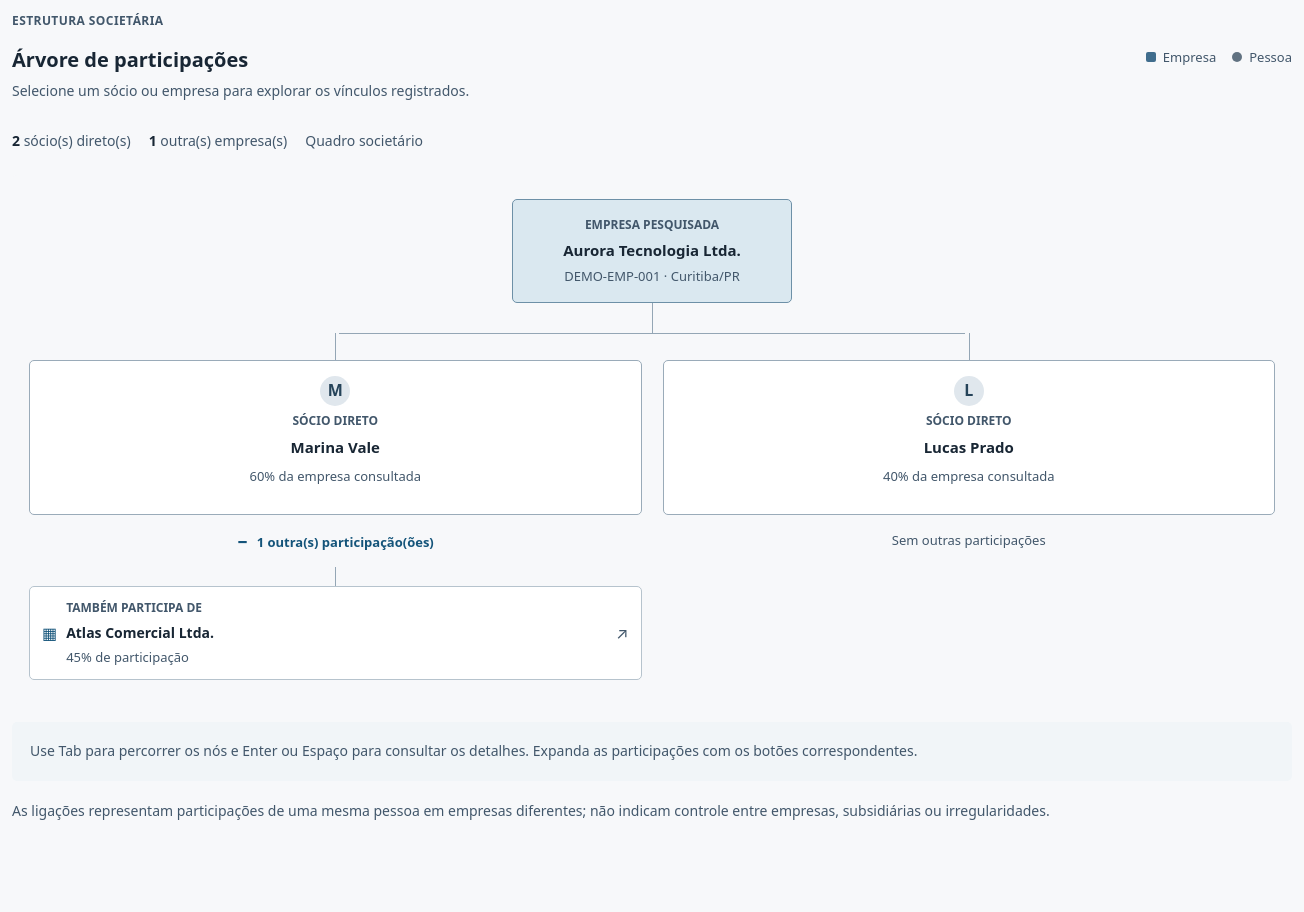
Test: árvore societária › permite expandir e recolher os vínculos
Click the button with class "tree-expand" at (335, 541), box 29,515 -> 642,567
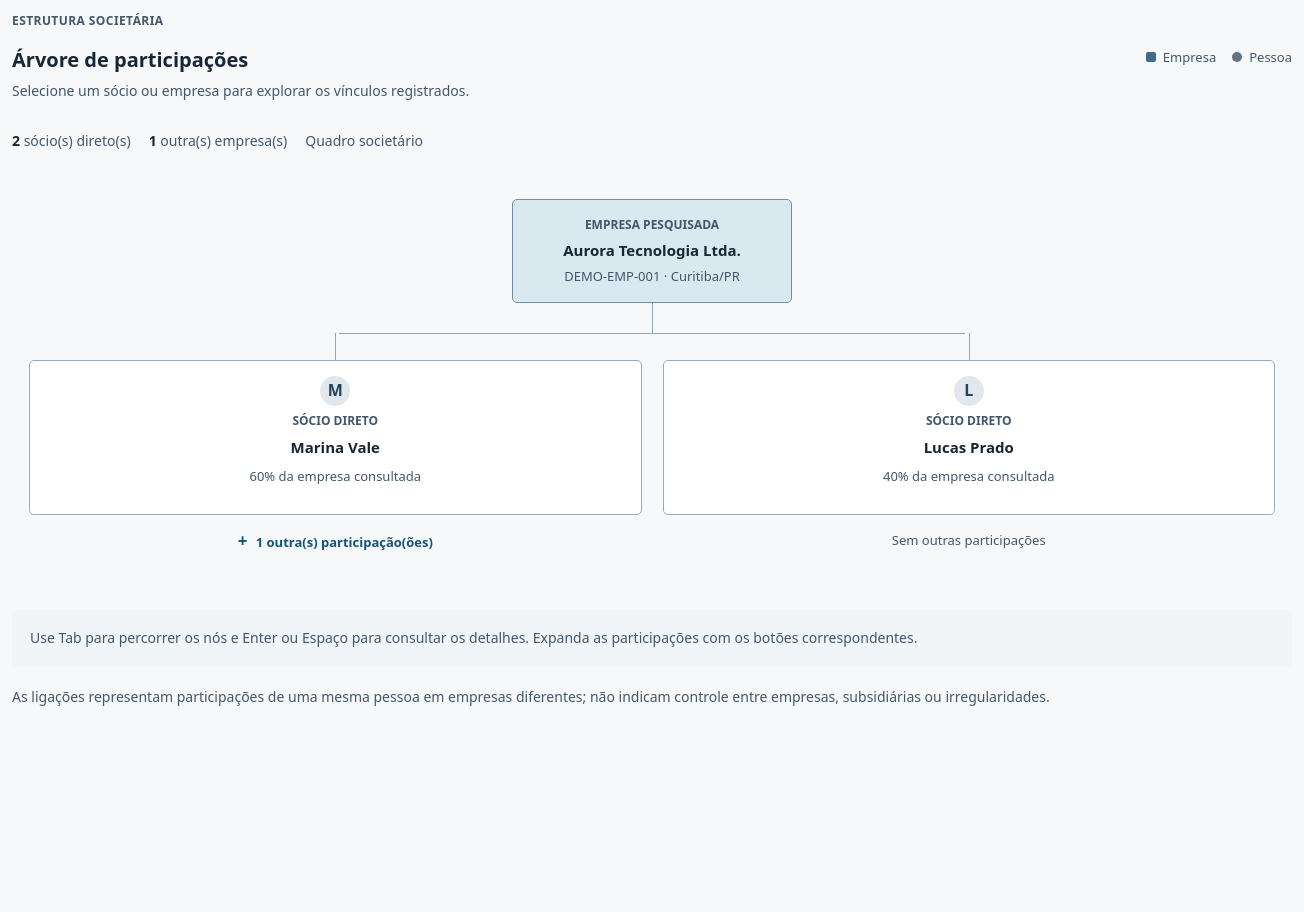
Now the button with class "tree-expand" is collapsed, box 29,515 -> 642,567
